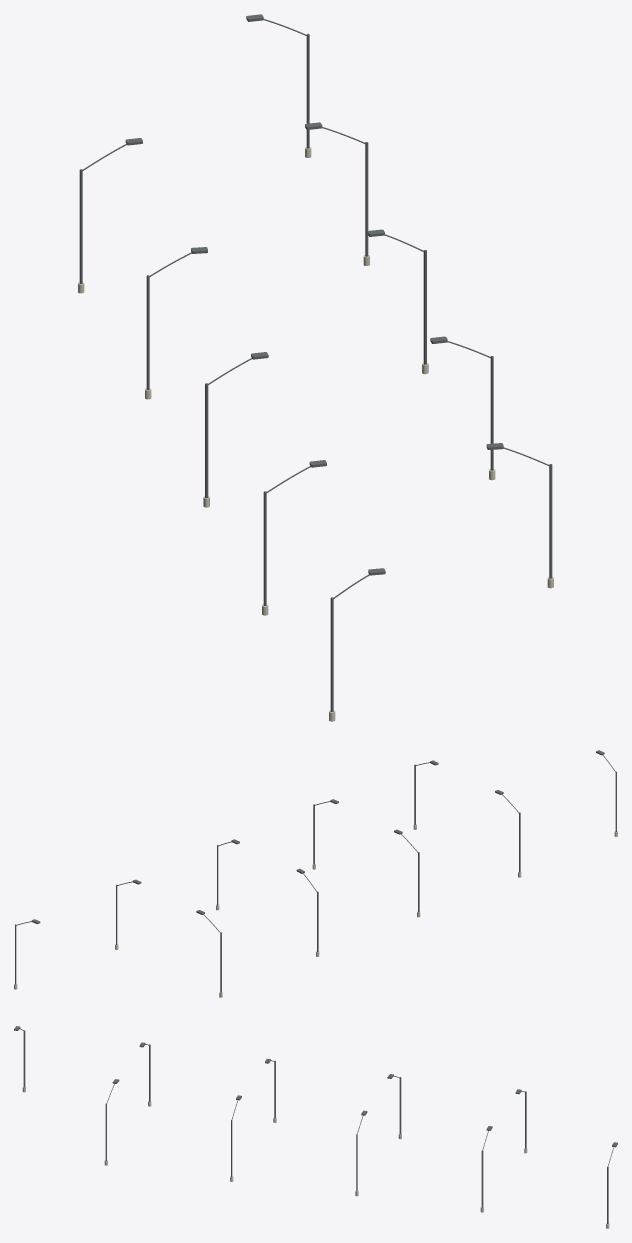
3 views of the same model, one above another, from view 1: azimuth 30°, elevation 25°; view 2: azimuth 150°, elevation 25°; view 3: azimuth 270°, elevation 25° (orthographic). The views are drawn at different scales.
Parts seen in each view (by area): view 1: buildings_s_-2_-5_Dark_Metal; view 2: buildings_s_-2_-5_Dark_Metal; view 3: buildings_s_-2_-5_Dark_Metal.
Boxes of the visible parts, x1=… form: buildings_s_-2_-5_Dark_Metal: x1=79, y1=14, x2=552, y2=711; buildings_s_-2_-5_Dark_Metal: x1=15, y1=750, x2=616, y2=992; buildings_s_-2_-5_Dark_Metal: x1=14, y1=1026, x2=617, y2=1223.
Size of the model in its own units: 67.67 by 16.75 by 125.
